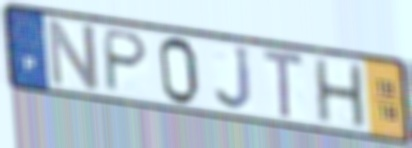0: (156, 35, 201, 106)
H: (312, 57, 370, 132)
J: (213, 44, 256, 114)
N: (45, 16, 102, 94)
P: (103, 26, 151, 95)
T: (260, 45, 307, 122)
